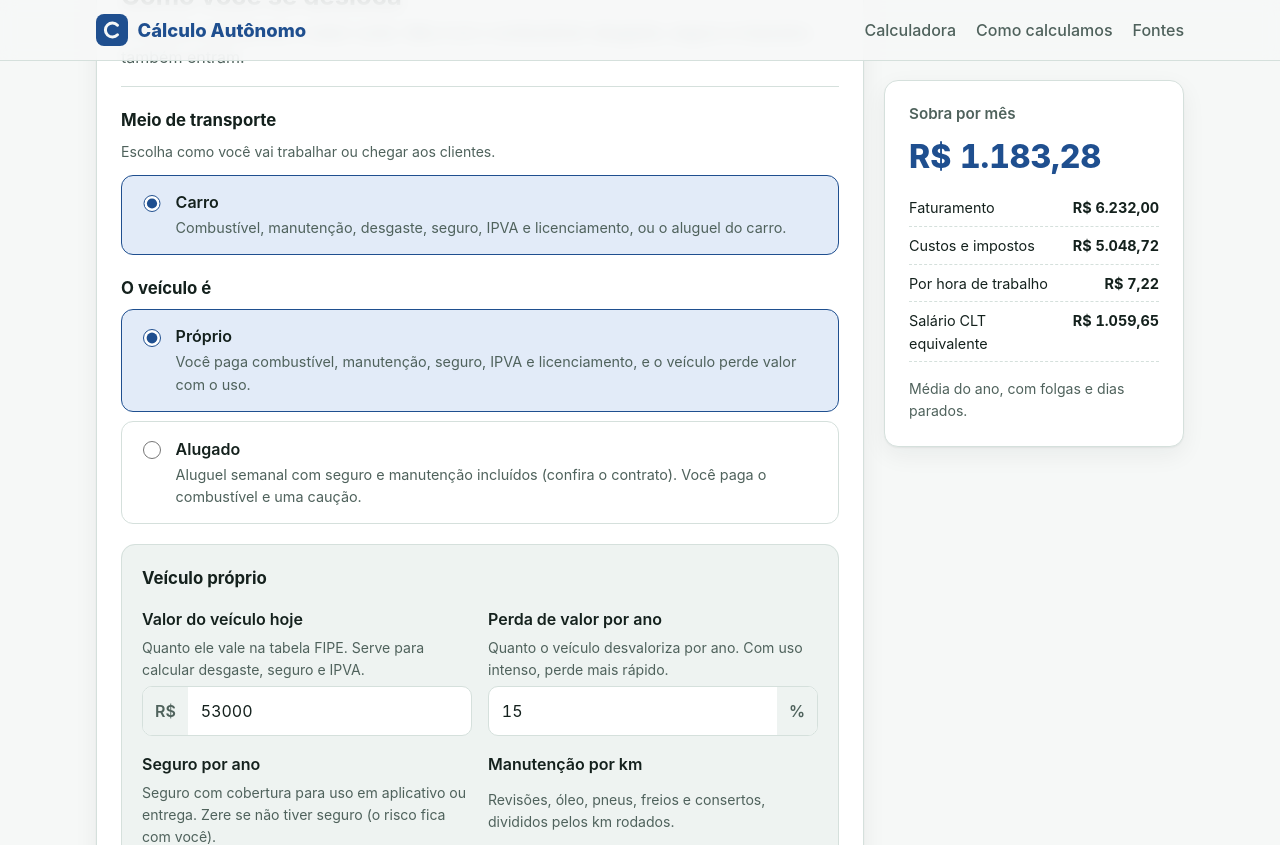
Scenario: Autonomous work page › switching to a rented vehicle shows the weekly rent
The width and height of the screenshot is (1280, 845).
(page scrolled)
Click the 3rd radio button.
click(152, 450)  # box [143,441,161,459]
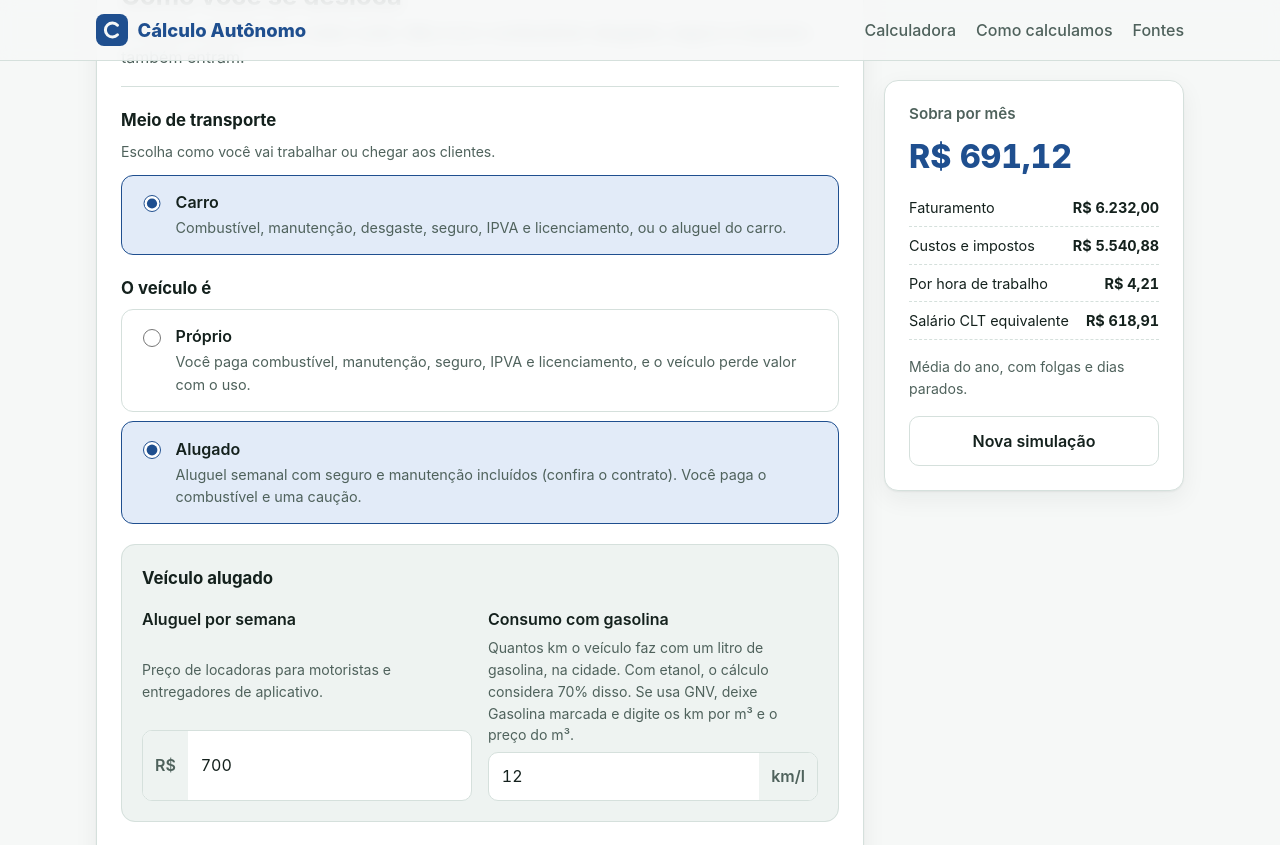
Expected: the text "Aluguel por semana" is shown, [142,609,296,629]
